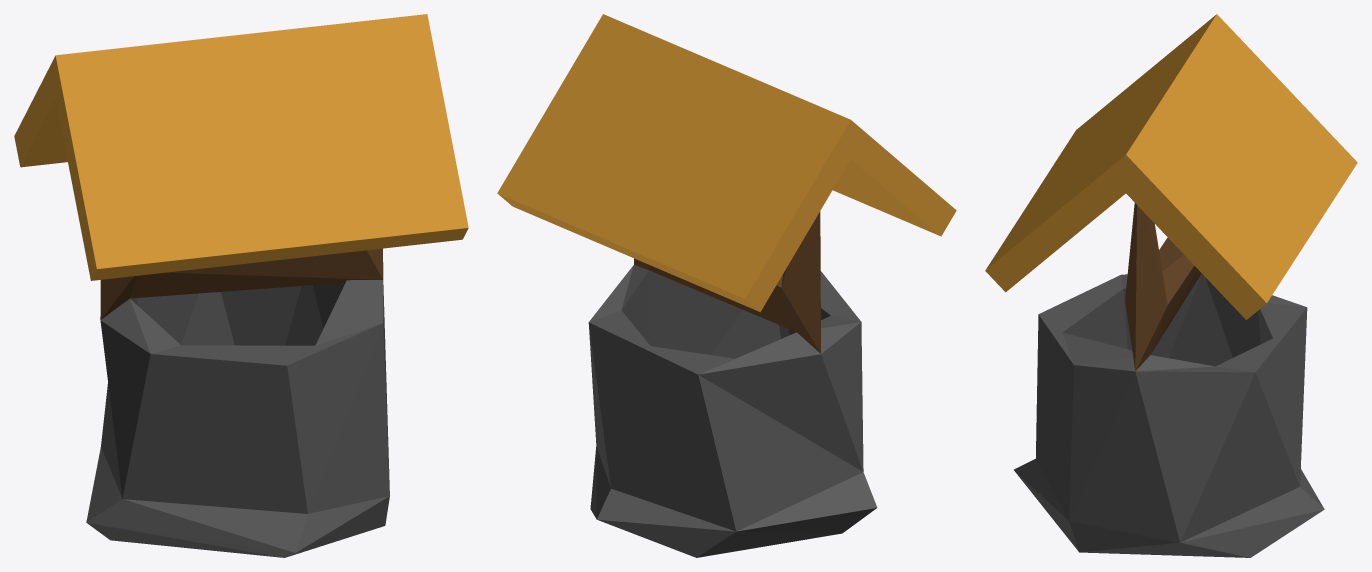
The model's file is WELL.fbx.
The picture shows the model from 3 angles, left to right: view 1: azimuth 30°, elevation 25°; view 2: azimuth 150°, elevation 25°; view 3: azimuth 270°, elevation 25°; orthographic projection. The views are drawn at different scales.
Visible parts, largest first — view 1: WELL; view 2: WELL; view 3: WELL.
Part boxes in pixels (left/top/right/bottom): WELL: left=14, top=14, right=468, bottom=557; WELL: left=497, top=14, right=956, bottom=557; WELL: left=985, top=14, right=1357, bottom=557.
Bounding box in the file's own units: 257 × 296 × 234.
1 material, 1 textured.
